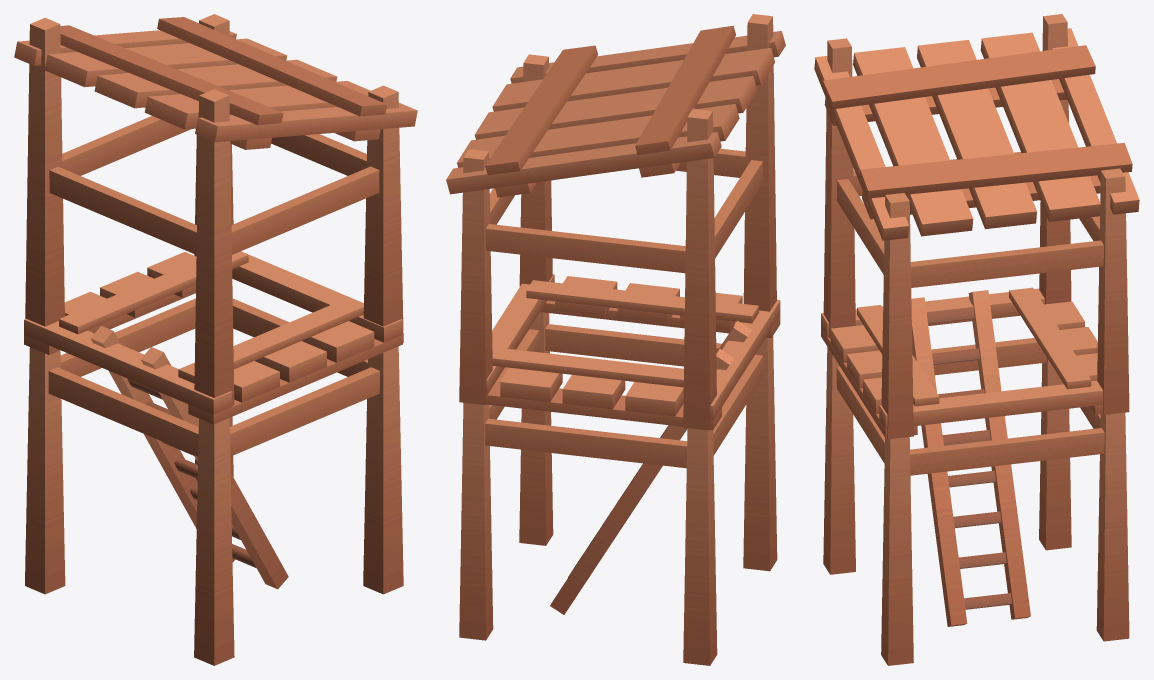
File: Watch Tower.glb
3 renders of one model, left to right at view 1: azimuth 30°, elevation 25°; view 2: azimuth 150°, elevation 25°; view 3: azimuth 270°, elevation 25°, orthographic. The views are drawn at different scales.
Visible parts, largest first — view 1: floor-hole; view 2: floor-hole; view 3: floor-hole.
Part boxes in pixels (x1,y1,x2,y2): floor-hole: (14, 14, 417, 665); floor-hole: (446, 14, 785, 665); floor-hole: (814, 14, 1139, 665).
Bounding box in the file's own units: 2.62 × 4.66 × 2.6.
2 materials, 2 textured.
